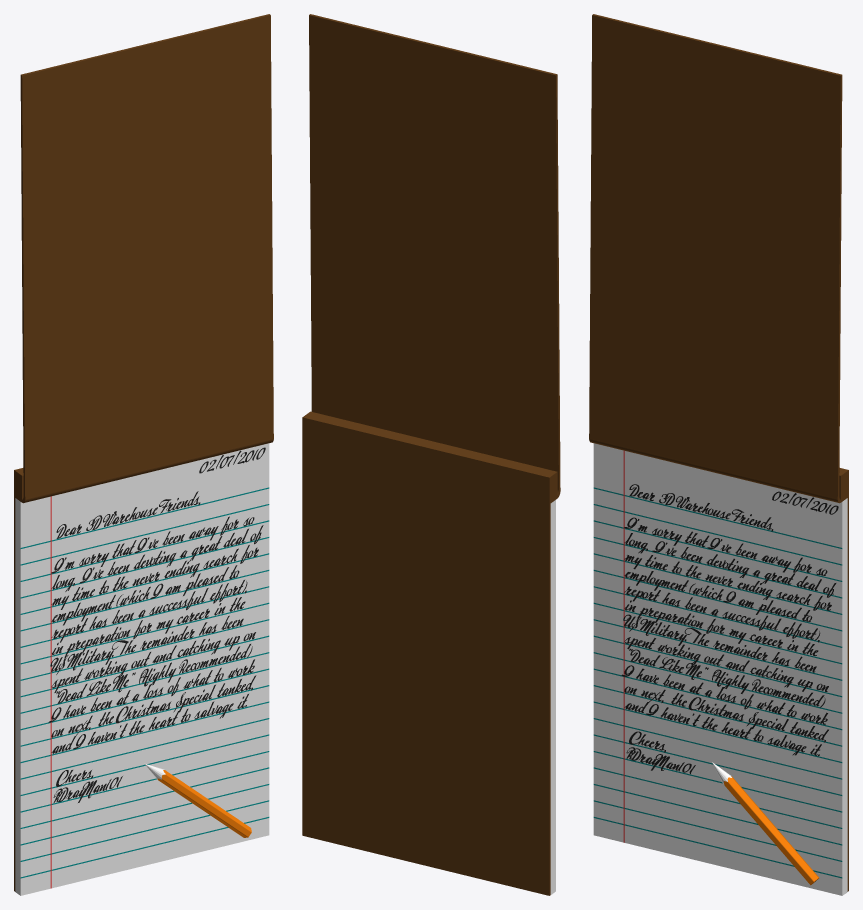
3 renders of one model, left to right at view 1: azimuth 30°, elevation 25°; view 2: azimuth 150°, elevation 25°; view 3: azimuth 330°, elevation 25°, orthographic.
Visible parts, largest first — view 1: rdrayman s notepad; view 2: rdrayman s notepad; view 3: rdrayman s notepad.
Boxes of the visible parts, x1,y1,x2,y2 form: rdrayman s notepad: [14, 14, 273, 895]; rdrayman s notepad: [302, 14, 560, 895]; rdrayman s notepad: [589, 14, 848, 895].
Bounding box in the file's own units: 168 × 530 × 14.05.
